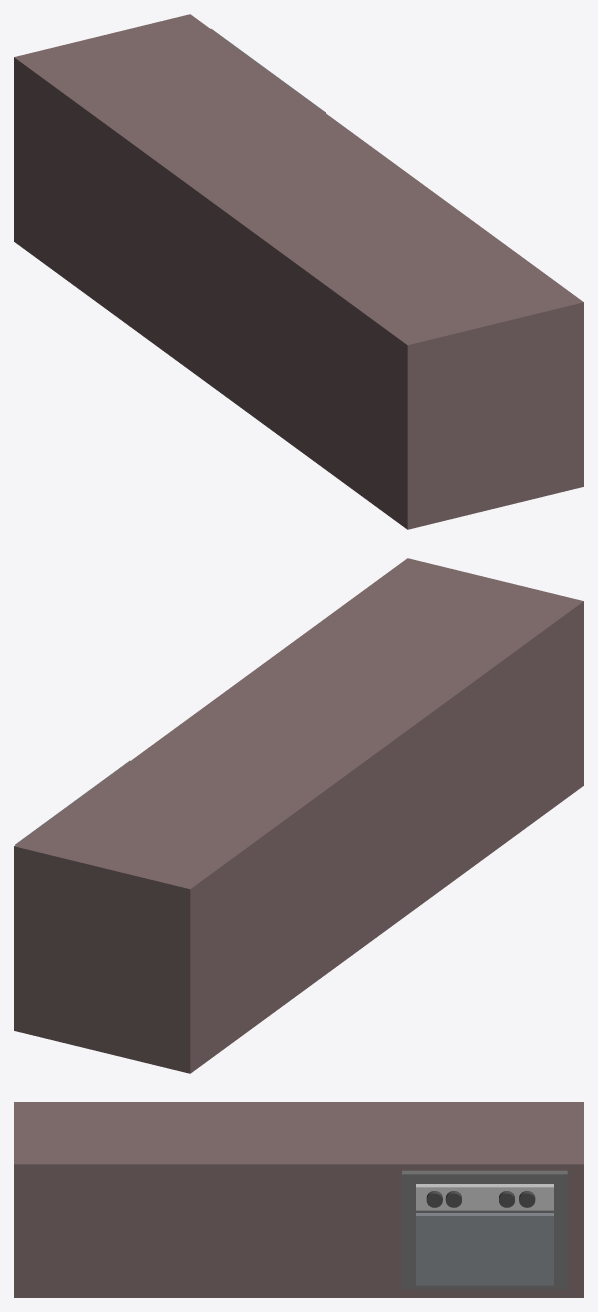
File: Cookkkkerr.fbx
3 views of the same model, one above another, from view 1: azimuth 30°, elevation 25°; view 2: azimuth 150°, elevation 25°; view 3: azimuth 270°, elevation 25° (orthographic). The views are drawn at different scales.
Visible parts, largest first — view 1: pCube6; view 2: pCube6; view 3: pCube6.
Part boxes in pixels (left/top/right/bottom): pCube6: left=14, top=14, right=583, bottom=529; pCube6: left=14, top=558, right=583, bottom=1073; pCube6: left=14, top=1102, right=583, bottom=1297.
Size of the model in its own units: 3.71 by 3.22 by 12.46.
